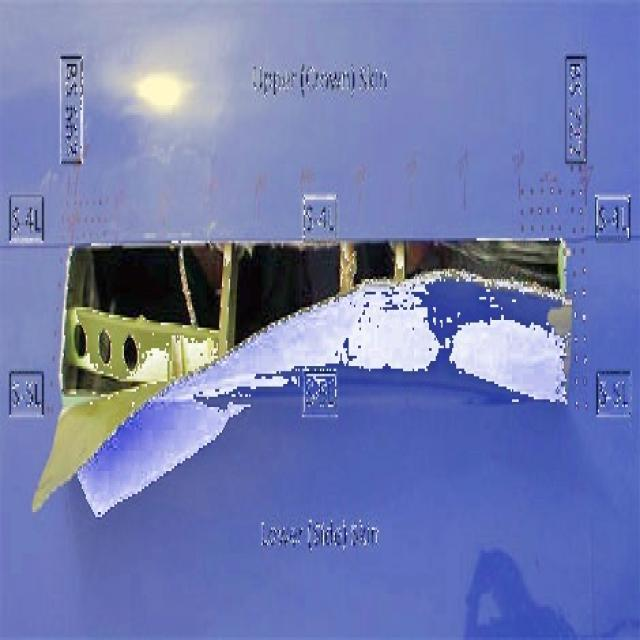crack: (32, 239, 577, 516)
